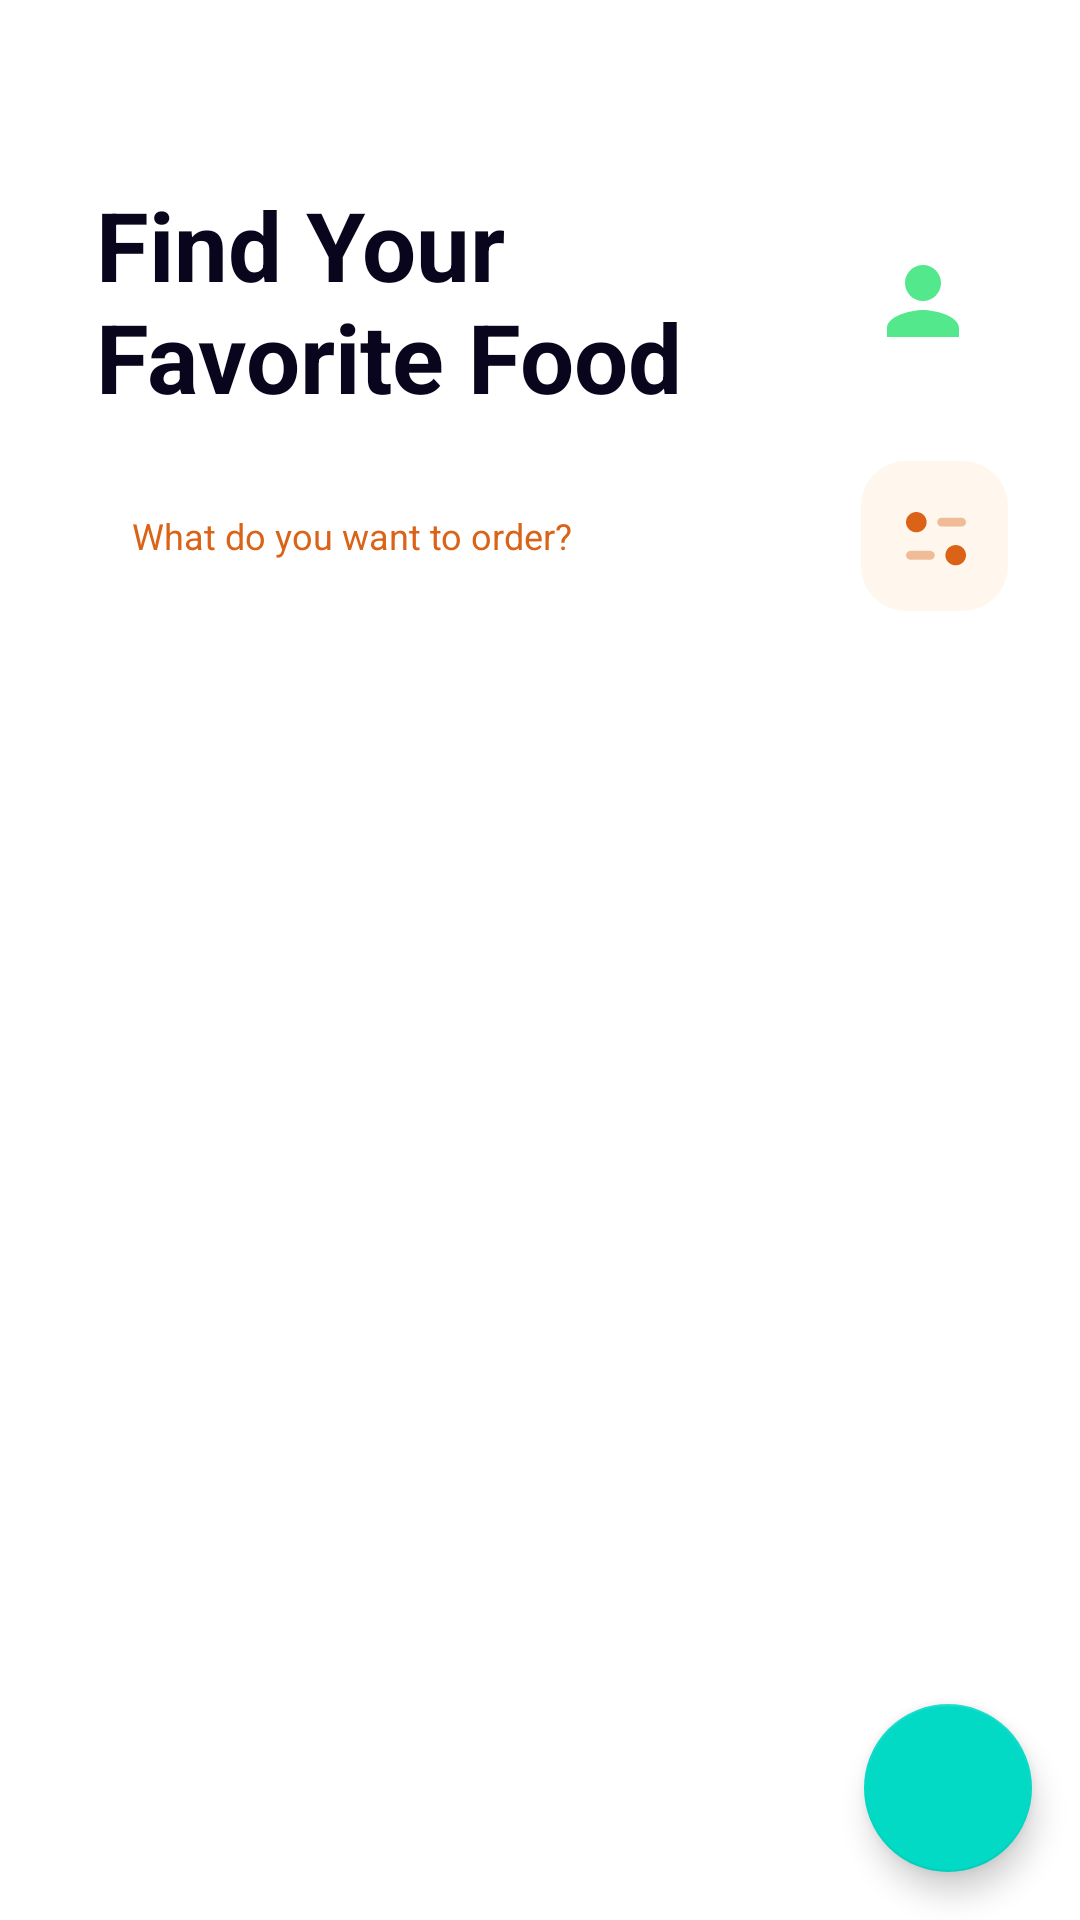

Where icons sit on this 1080px x 1920px app screen, as [x1=x1, y1=y1, x2=x2, y2=y2]:
filter: [x1=861, y1=461, x2=1008, y2=611]
person: [x1=887, y1=265, x2=959, y2=337]
